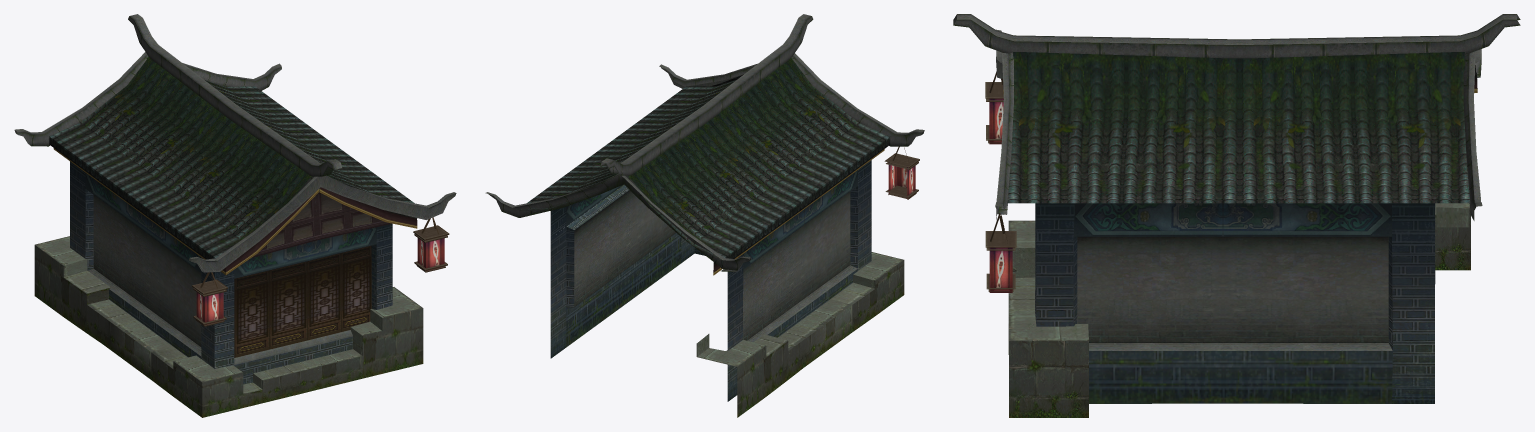
File: zc_erhai_zhujian03.FBX
3 views of the same model, side by side, from view 1: azimuth 30°, elevation 25°; view 2: azimuth 150°, elevation 25°; view 3: azimuth 270°, elevation 25° (orthographic). The views are drawn at different scales.
Parts seen in each view (by area): view 1: zc_erhai_zhujian03; view 2: zc_erhai_zhujian03; view 3: zc_erhai_zhujian03.
Part boxes in pixels (left/top/right/bottom): zc_erhai_zhujian03: left=14, top=14, right=456, bottom=417; zc_erhai_zhujian03: left=485, top=14, right=924, bottom=417; zc_erhai_zhujian03: left=953, top=14, right=1520, bottom=417.
Bounding box in the file's own units: 658 × 570 × 884.
